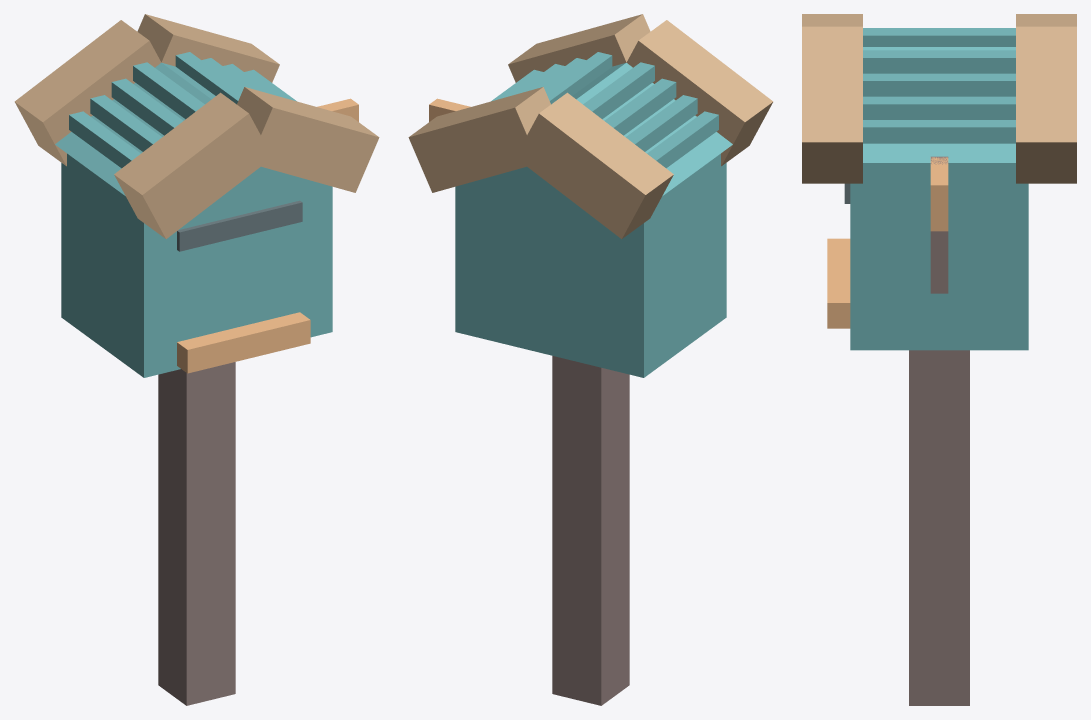
File: letter-box.glb
3 renders of one model, left to right at view 1: azimuth 30°, elevation 25°; view 2: azimuth 150°, elevation 25°; view 3: azimuth 270°, elevation 25°, orthographic. The views are drawn at different scales.
Parts seen in each view (by area): view 1: meadow-courier-mailbox; view 2: meadow-courier-mailbox; view 3: meadow-courier-mailbox.
Boxes of the visible parts, x1,y1,x2,y2 form: meadow-courier-mailbox: (14,14,379,705); meadow-courier-mailbox: (408,14,773,705); meadow-courier-mailbox: (802,14,1076,705).
Size of the model in its own units: 0.6741 by 1.46 by 0.54.
